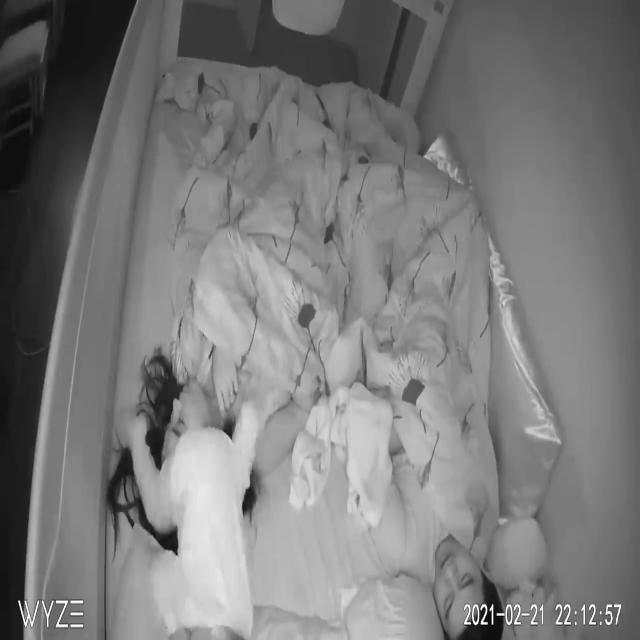baby: (117, 403, 257, 640)
